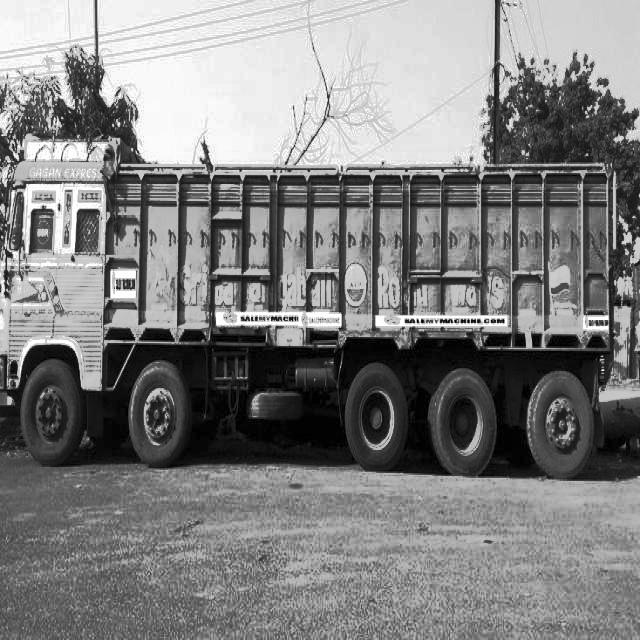HCV: (0, 71, 630, 520)
